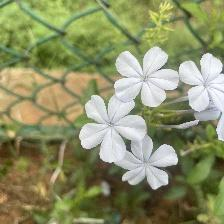chitrak: (114, 48, 180, 109), (84, 91, 142, 159), (119, 134, 180, 188), (181, 54, 224, 115)
